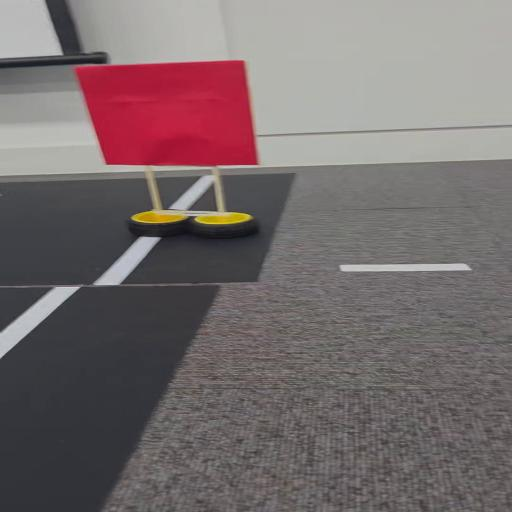Sign_A: (70, 60, 282, 250)
